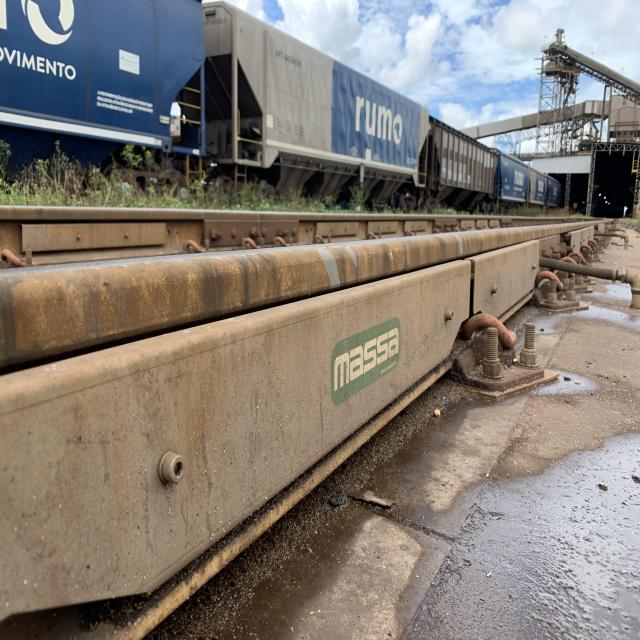hopper: (205, 0, 431, 204), (0, 0, 211, 194), (429, 104, 499, 212), (498, 147, 528, 211)
